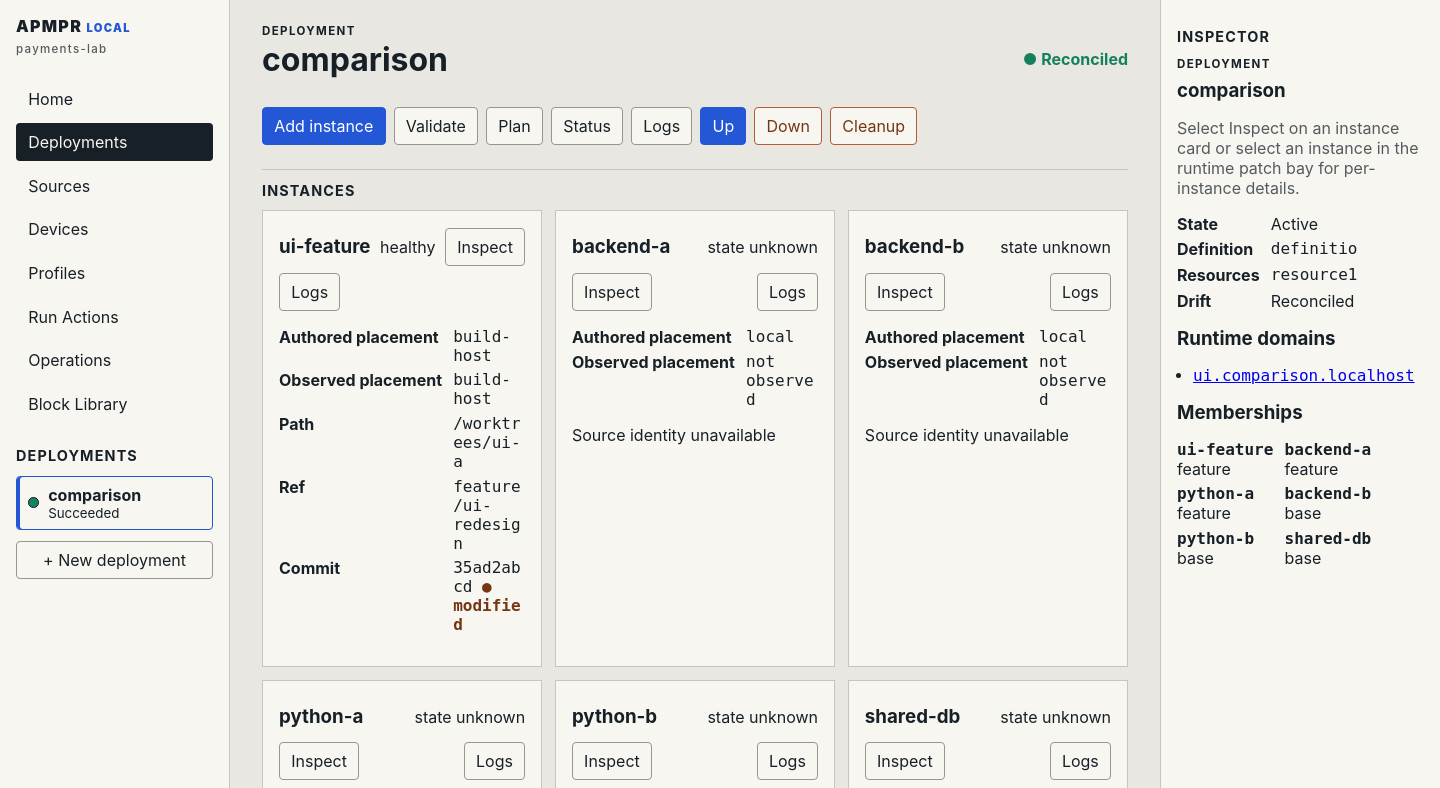
Test: APM ProjectRunner GUI › names a startup profile the library does not list without inventing provenance
Check: the 1st heading "comparison" is shown, box [262,40,448,79]
Step 1. Click the button with aria-label "Inspect ui-feature" → click(485, 247), box [445,228,525,266]
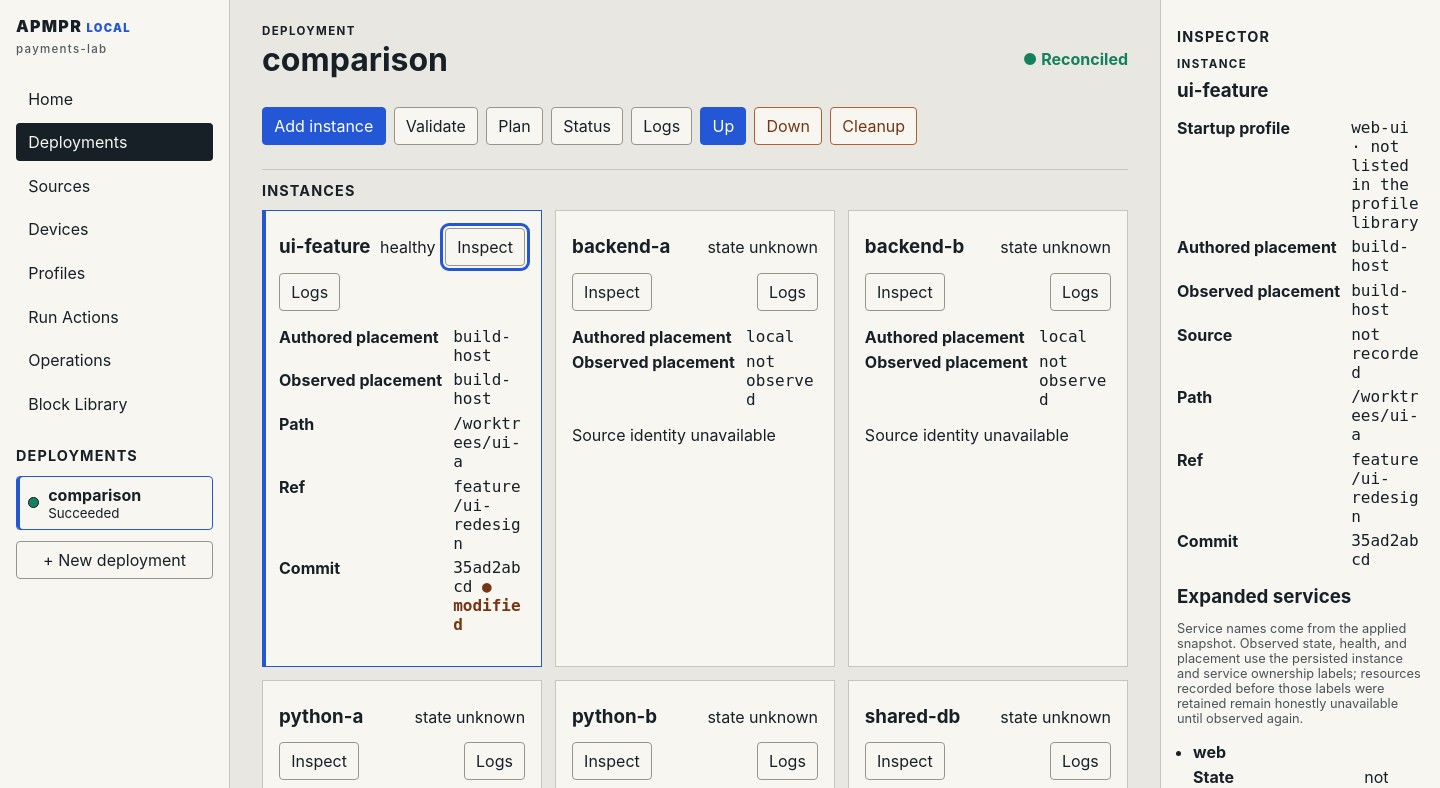
Check: the text "web-ui · not listed in the profile library" is shown, box [1351,118,1424,232]
